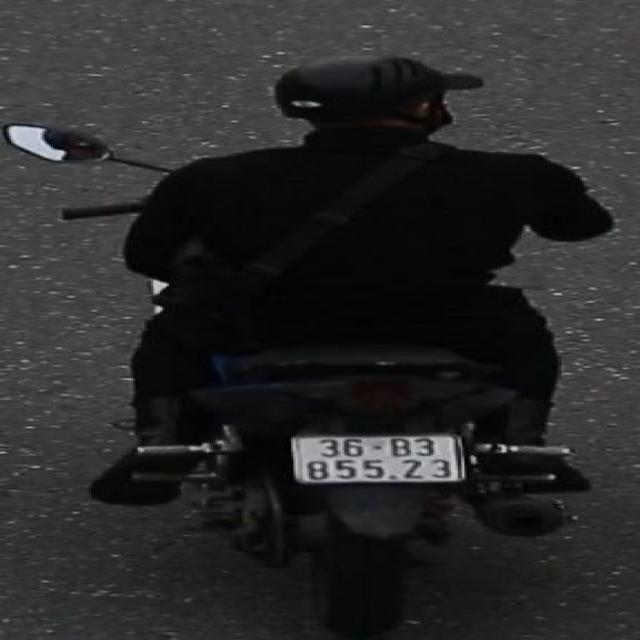LP: (282, 430, 471, 490)
helmet: (265, 48, 459, 140)
